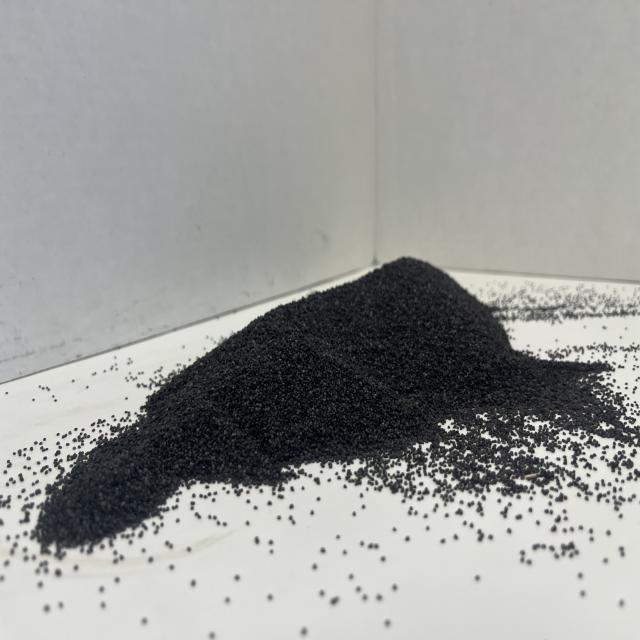Poppy Seeds: (25, 246, 615, 558)
